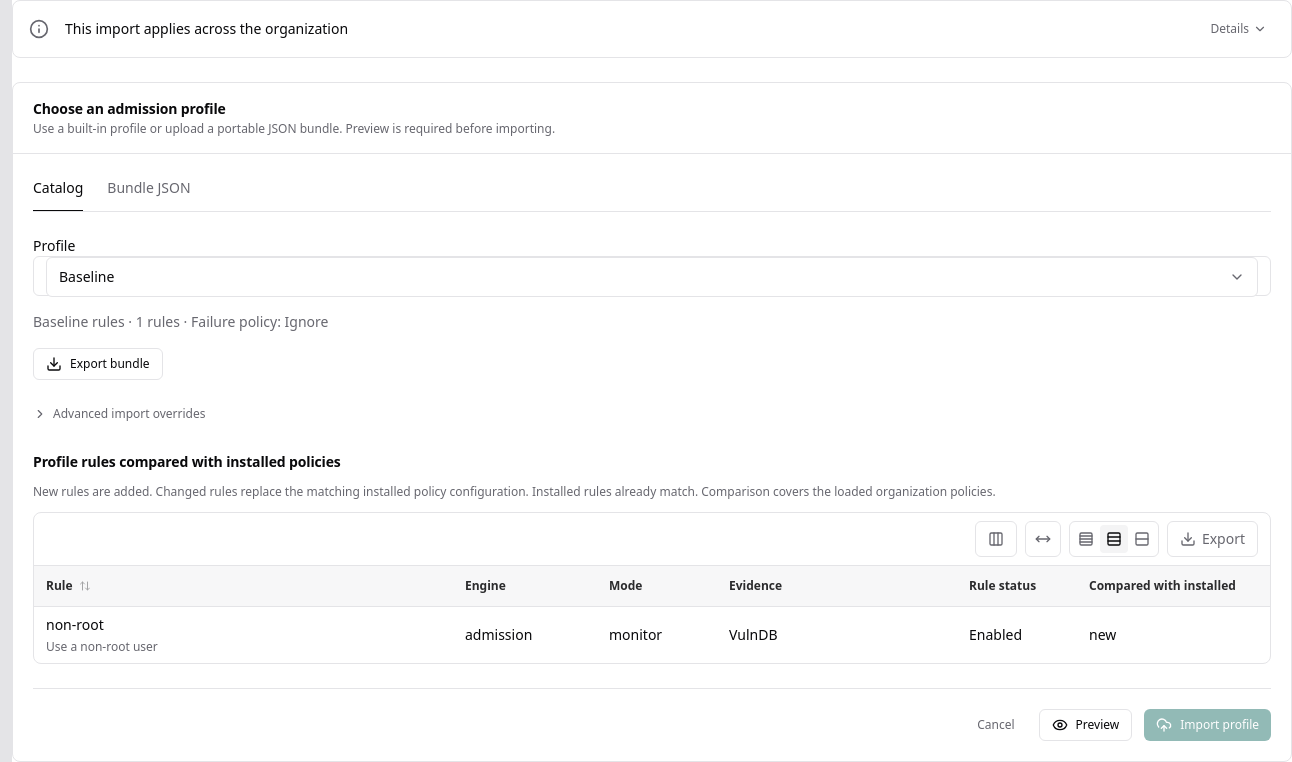
compares organization policies and requires a preview before import
(page scrolled)
Expected: the button "Import profile" is disabled, 1144,708 -> 1271,740
Click the button "Preview": (1085, 724) 1038,708 -> 1132,740
(page scrolled)
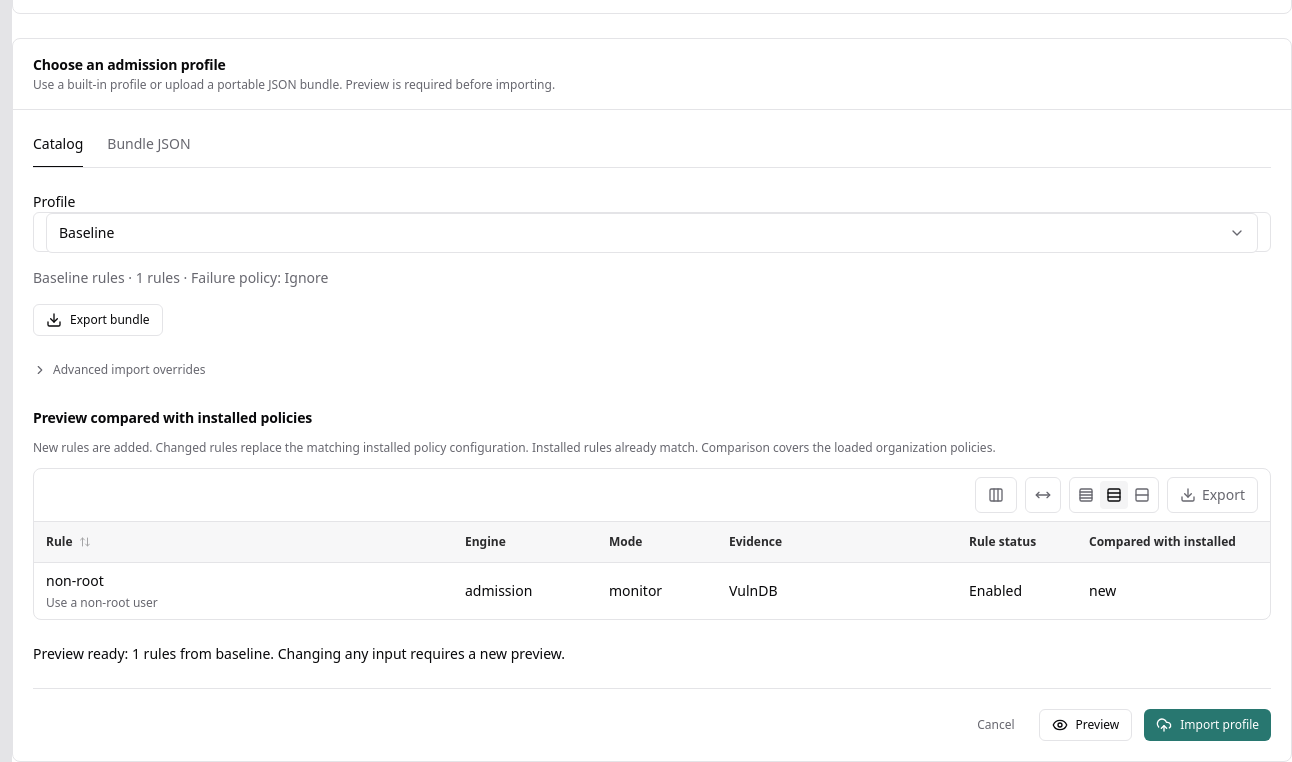
Expected: the text "VulnDB" is shown, 729,580 -> 778,600
Expected: the button "Import profile" is enabled, 1144,708 -> 1271,740
